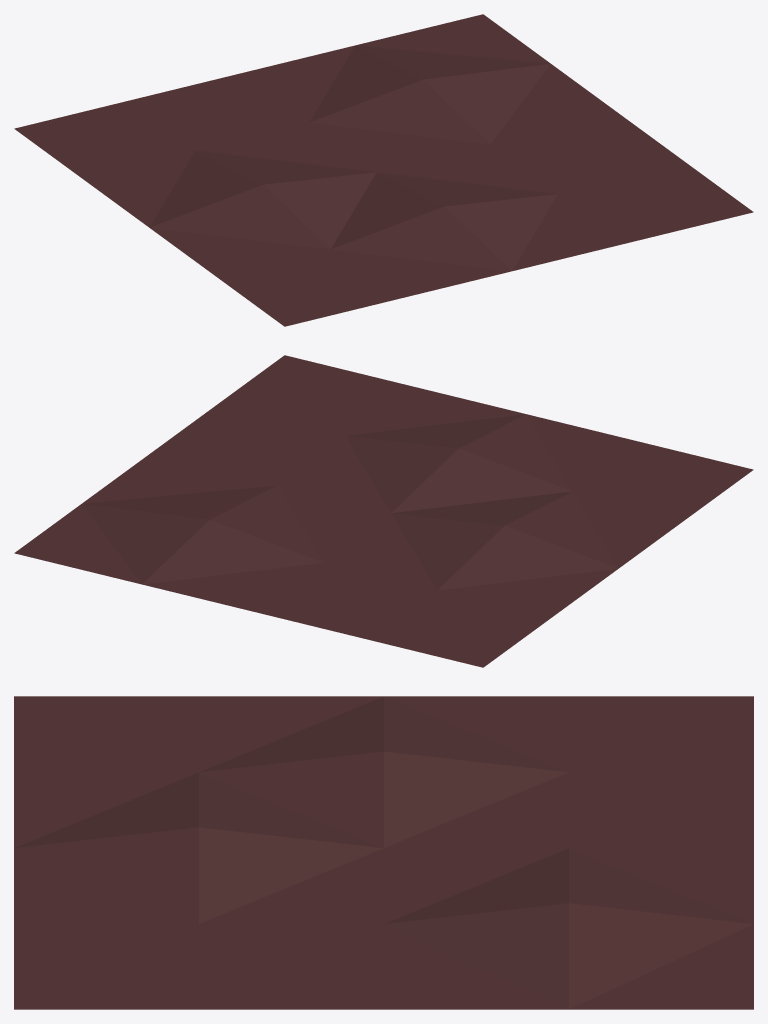
The model's file is SM_Env_Path_Dirt_04.glb.
3 renders of one model, top to bottom at view 1: azimuth 30°, elevation 25°; view 2: azimuth 150°, elevation 25°; view 3: azimuth 270°, elevation 25°, orthographic. The views are drawn at different scales.
Visible parts, largest first — view 1: SM_Env_Path_Dirt_04; view 2: SM_Env_Path_Dirt_04; view 3: SM_Env_Path_Dirt_04.
Part boxes in pixels (x1=…): SM_Env_Path_Dirt_04: x1=14, y1=14, x2=753, y2=326; SM_Env_Path_Dirt_04: x1=14, y1=355, x2=753, y2=667; SM_Env_Path_Dirt_04: x1=14, y1=696, x2=753, y2=1009.
Bounding box in the file's own units: 3 × 0.0937 × 3.
1 material, 1 textured.
